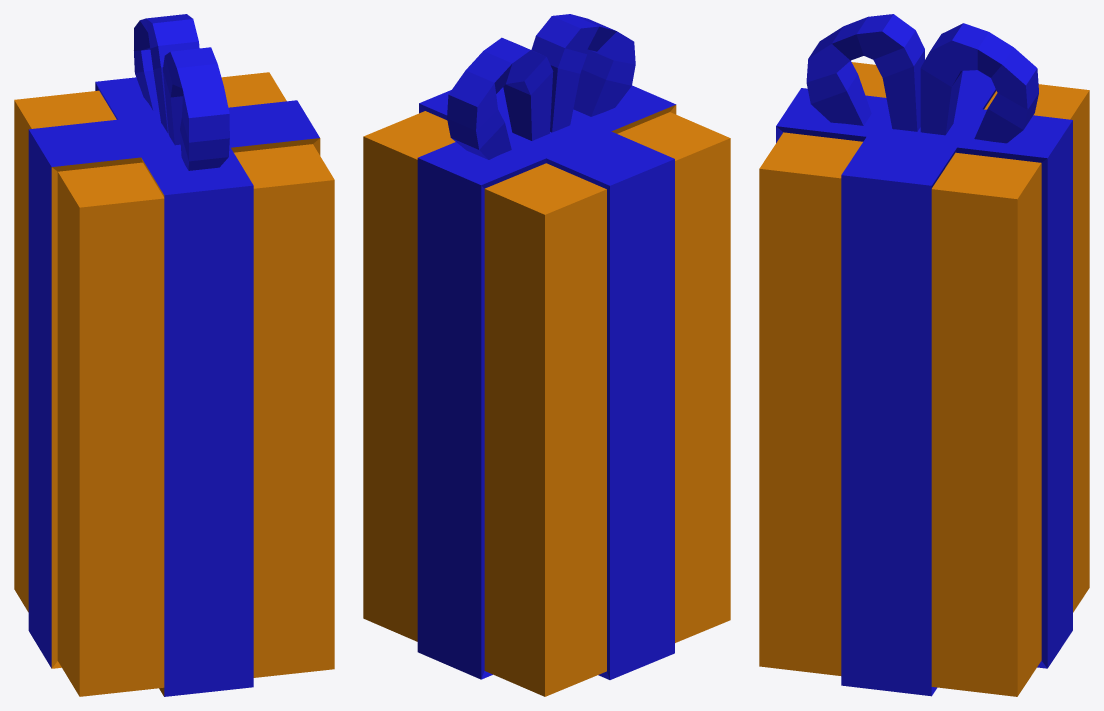
File: darcek2.fbx
3 views of the same model, side by side, from view 1: azimuth 30°, elevation 25°; view 2: azimuth 150°, elevation 25°; view 3: azimuth 270°, elevation 25° (orthographic). The views are drawn at different scales.
Parts seen in each view (by area): view 1: darcek2; view 2: darcek2; view 3: darcek2.
Part boxes in pixels (<box>): darcek2: <box>14,14,334,696</box>; darcek2: <box>363,14,730,696</box>; darcek2: <box>759,14,1089,696</box>.
Bounding box in the file's own units: 138 × 280 × 138.
